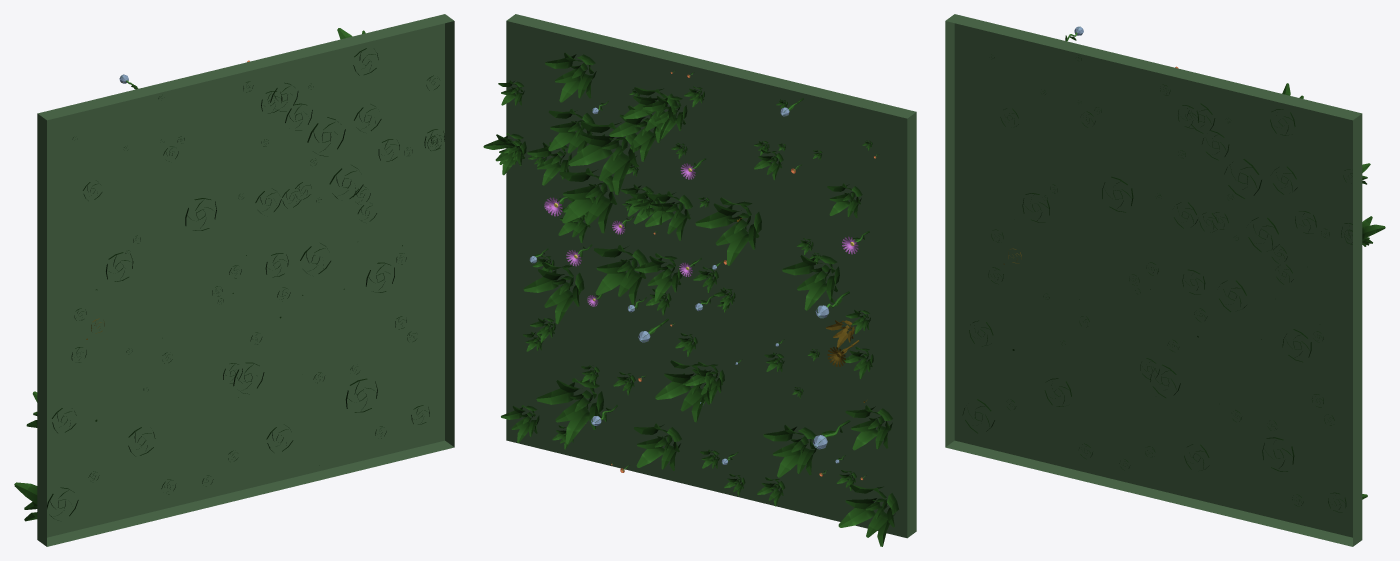
File: vegetacion3.fbx
3 renders of one model, left to right at view 1: azimuth 30°, elevation 25°; view 2: azimuth 150°, elevation 25°; view 3: azimuth 330°, elevation 25°, orthographic.
Parts seen in each view (by area): view 1: Terrain .006; view 2: Terrain .006; view 3: Terrain .006.
Part boxes in pixels (x1,y1,x2,y2): Terrain .006: (14, 14, 454, 546); Terrain .006: (483, 14, 916, 546); Terrain .006: (945, 14, 1385, 546).
Bounding box in the file's own units: 20742 × 20000 × 3645.
